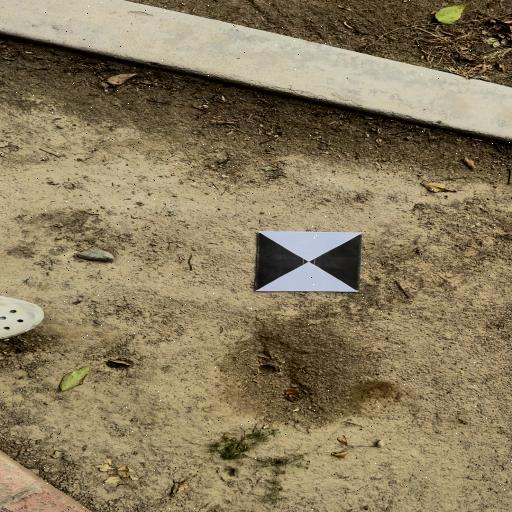target: (256, 230, 360, 293)
